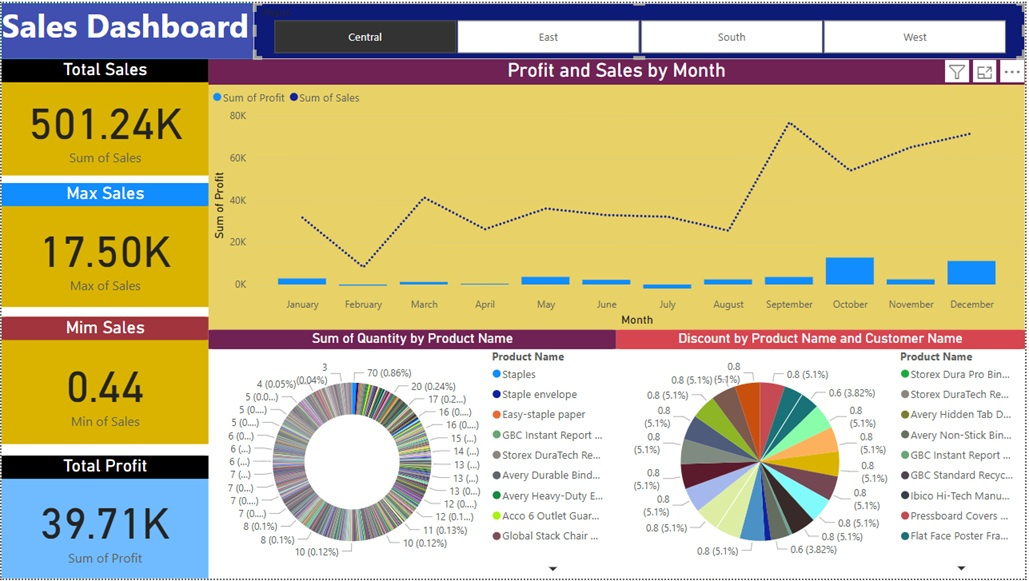

Layout of this report page (visuals, bound fields, positions):
{"tool":"powerbi","page":{"name":"Page 1","canvas":[1280,720],"ordinal":0},"visuals":[{"type":"shape","box":[0,0,1280.3,70],"z":0},{"type":"card","title":"Total   Sales","fields":{"Values":["Sum(Orders.Sales)"]},"box":[0,70,259.3,145.5],"z":1000},{"type":"card","title":"Max   Sales","fields":{"Values":["Max(Orders.Sales)"]},"box":[0,225,259.3,155.1],"z":2000},{"type":"card","title":"Mim   Sales","fields":{"Values":["Min(Orders.Sales)"]},"box":[0,392.5,259.3,159.2],"z":3000},{"type":"card","title":"Total Profit","fields":{"Values":["Sum(Orders.Profit)"]},"box":[0,566.7,259.3,153.7],"z":4000},{"type":"lineStackedColumnComboChart","title":"Profit and Sales by Month","fields":{"Category":["Orders.Order Date.Variation.Date Hierarchy.Month"],"Y2":["Sum(Orders.Sales)"],"Y":["Sum(Orders.Profit)"]},"box":[259.3,70,1020.9,338.9],"z":5000},{"type":"donutChart","fields":{"Y":["Sum(Orders.Quantity)"],"Category":["Orders.Product Name"]},"box":[259.3,409.3,510.5,311.6],"z":6000},{"type":"pieChart","title":"Discount by Product Name and Customer Name","fields":{"Category":["Orders.Product Name"],"Y":["Sum(Orders.Discount)"],"Series":["Orders.Customer Name"]},"box":[769,409,511,311],"z":7000},{"type":"slicer","fields":{"Values":["Orders.Region"]},"box":[315.1,0,965.1,69.8],"z":8000}]}

Visuals, with their boxes in screenshot pixels (x1, y1, x2, y2), scaled from the page's 1280x720 canvas onto the 1029x581 screenshot:
shape: left=0, top=0, right=1028, bottom=56
"Total   Sales" card: left=0, top=56, right=208, bottom=174
"Max   Sales" card: left=0, top=182, right=208, bottom=307
"Mim   Sales" card: left=0, top=317, right=208, bottom=445
"Total Profit" card: left=0, top=457, right=208, bottom=580
"Profit and Sales by Month" lineStackedColumnComboChart: left=208, top=56, right=1028, bottom=330
donutChart - Sum(Orders.Quantity) x Orders.Product Name: left=208, top=330, right=619, bottom=580
"Discount by Product Name and Customer Name" pieChart: left=618, top=330, right=1028, bottom=580
slicer - Orders.Region: left=253, top=0, right=1028, bottom=56
